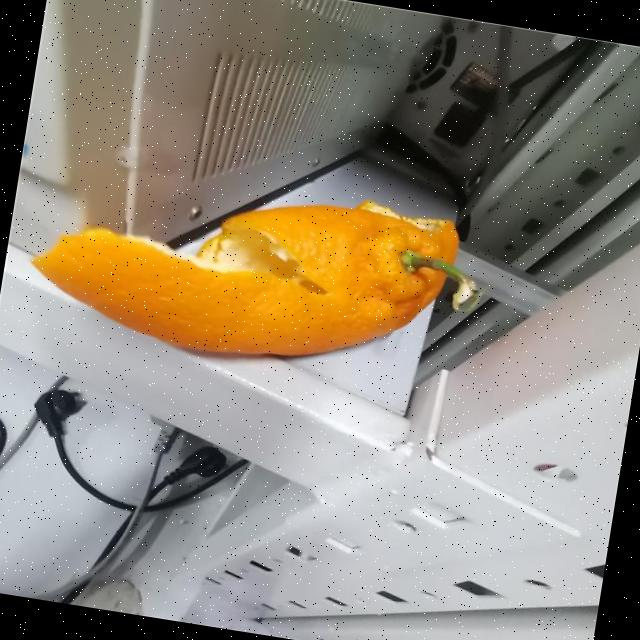orange-peel: (19, 147, 477, 393)
